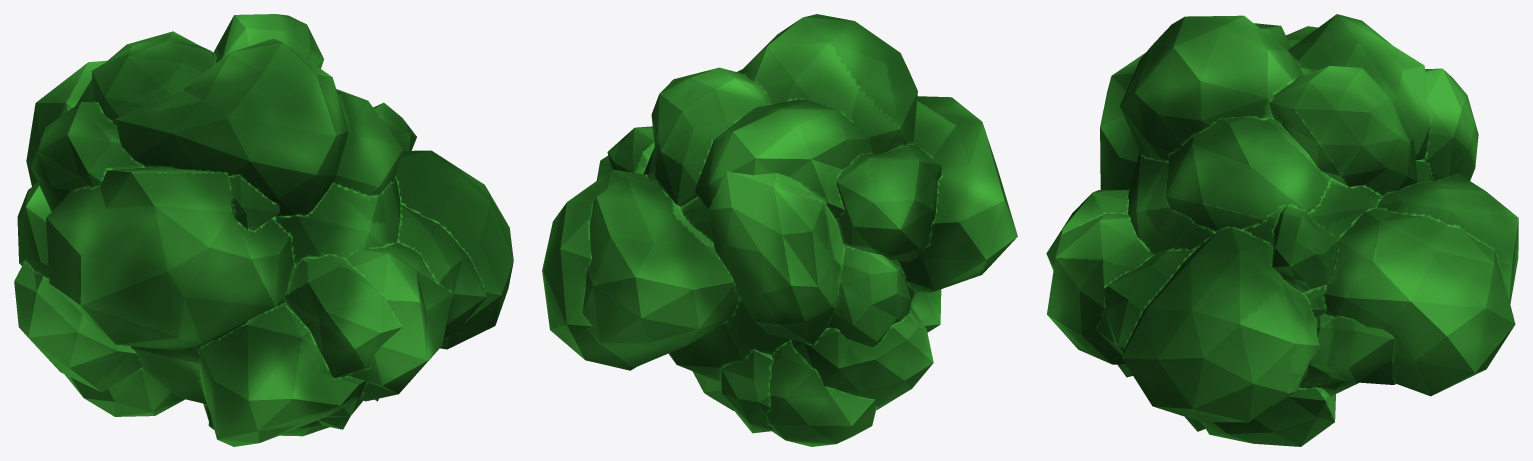
File: virus_adeno.fbx
3 views of the same model, side by side, from view 1: azimuth 30°, elevation 25°; view 2: azimuth 150°, elevation 25°; view 3: azimuth 270°, elevation 25° (orthographic). The views are drawn at different scales.
Visible parts, largest first — view 1: Icosphere.002; view 2: Icosphere.002; view 3: Icosphere.002.
Boxes of the visible parts, x1,y1,x2,y2 form: Icosphere.002: [14, 14, 513, 446]; Icosphere.002: [542, 14, 1017, 446]; Icosphere.002: [1046, 14, 1518, 446].
Size of the model in its own units: 388 by 352 by 371.
1 material, 1 textured.
